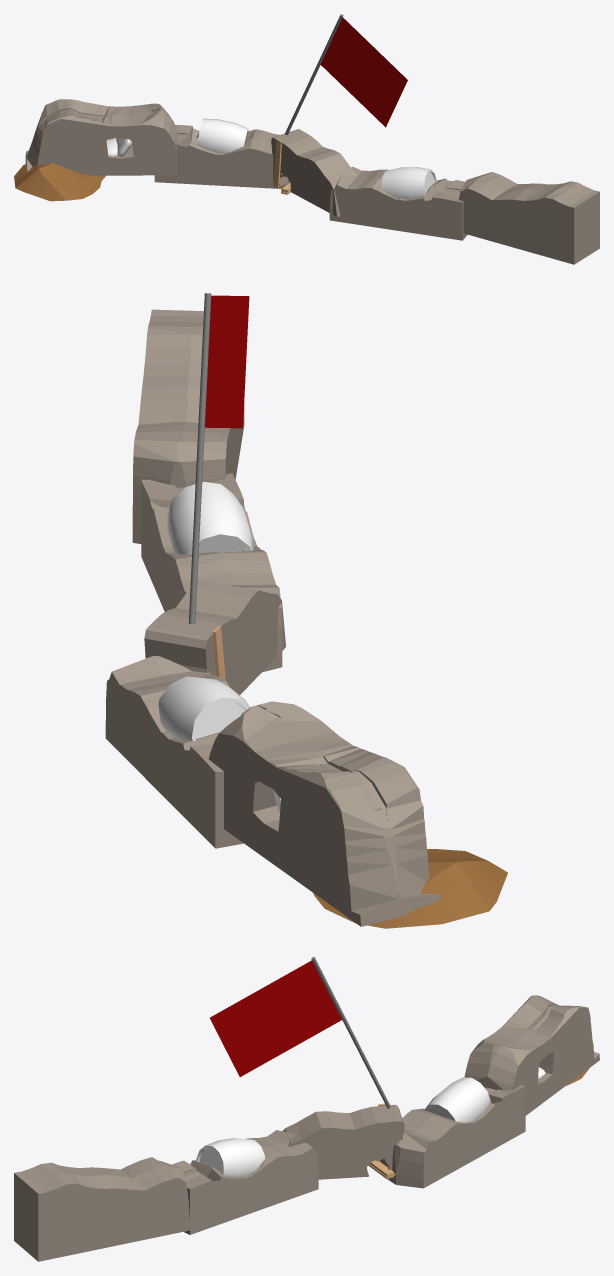
Rendered from barricade_01_intact.gltf.
3 renders of one model, top to bottom at view 1: azimuth 30°, elevation 25°; view 2: azimuth 150°, elevation 25°; view 3: azimuth 270°, elevation 25°, orthographic. The views are drawn at different scales.
Parts seen in each view (by area): view 1: CSGBakedMeshInstance3D2, CSGBakedMeshInstance3D5, CSGBakedMeshInstance3D3, CSGBakedMeshInstance3D4, Flag2, CSGBakedMeshInstance3D, sm_dirt_cluster_022, sm_barrel_stand_c, sm_barrel_stand_c2, Pole2; view 2: CSGBakedMeshInstance3D5, CSGBakedMeshInstance3D2, CSGBakedMeshInstance3D4, CSGBakedMeshInstance3D, CSGBakedMeshInstance3D3, sm_dirt_cluster_022, Flag2, sm_barrel_stand_c, sm_barrel_stand_c2, Pole2; view 3: CSGBakedMeshInstance3D2, CSGBakedMeshInstance3D5, Flag2, CSGBakedMeshInstance3D4, CSGBakedMeshInstance3D3, CSGBakedMeshInstance3D, sm_barrel_stand_c2, sm_barrel_stand_c, Pole2.
Part boxes in pixels (x1,y1,x2,y2): CSGBakedMeshInstance3D2: (458,172,599,264); CSGBakedMeshInstance3D5: (25,99,177,175); CSGBakedMeshInstance3D3: (329,167,467,240); CSGBakedMeshInstance3D4: (154,125,289,188); Flag2: (320,17,407,127); CSGBakedMeshInstance3D: (271,129,357,216); sm_dirt_cluster_022: (14,163,105,201); sm_barrel_stand_c: (381,167,436,199); sm_barrel_stand_c2: (197,118,248,153); Pole2: (285,14,343,135); CSGBakedMeshInstance3D5: (208,701,440,926); CSGBakedMeshInstance3D2: (132,309,244,543); CSGBakedMeshInstance3D4: (105,656,243,848); CSGBakedMeshInstance3D: (144,580,285,695); CSGBakedMeshInstance3D3: (141,473,282,672); sm_dirt_cluster_022: (313,849,507,928); Flag2: (205,295,249,428); sm_barrel_stand_c: (167,481,254,554); sm_barrel_stand_c2: (158,676,250,741); Pole2: (188,293,211,623); CSGBakedMeshInstance3D2: (14,1157,190,1261); CSGBakedMeshInstance3D5: (464,995,599,1115); Flag2: (210,960,341,1076); CSGBakedMeshInstance3D4: (379,1085,525,1188); CSGBakedMeshInstance3D3: (172,1130,318,1234); CSGBakedMeshInstance3D: (282,1104,404,1179); sm_barrel_stand_c2: (424,1077,490,1122); sm_barrel_stand_c: (196,1138,265,1176); Pole2: (311,957,390,1108).
Bounding box in the file's own units: 13.14 × 6.36 × 14.81.
